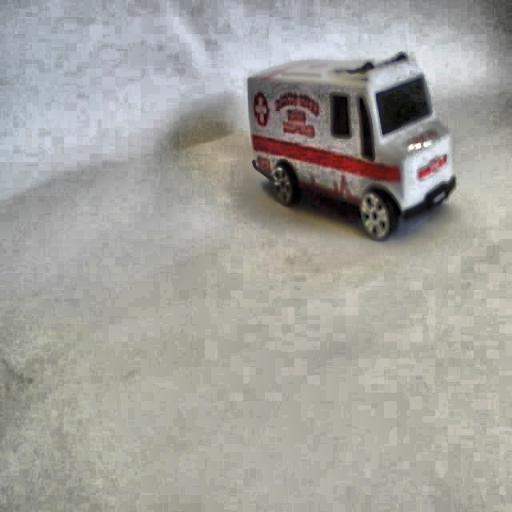ambulance: (246, 51, 456, 241)
